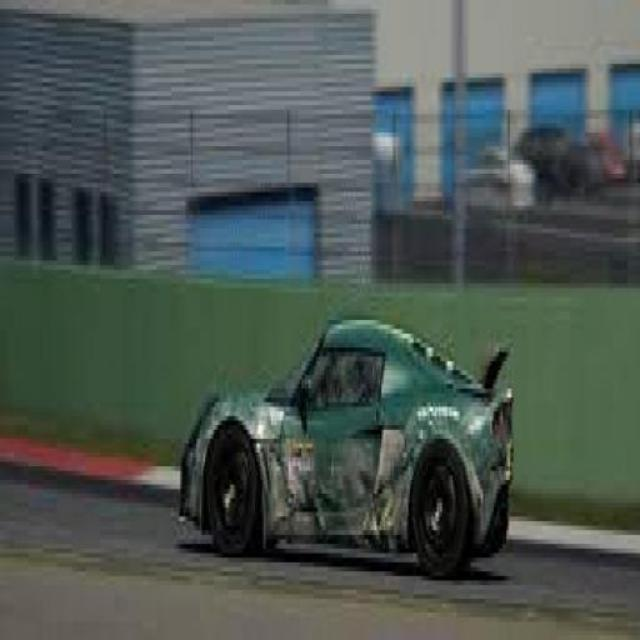crack: (183, 399, 505, 560)
